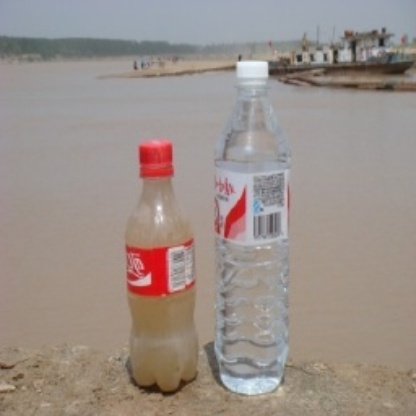bottle: (212, 61, 288, 393), (121, 136, 201, 391)
